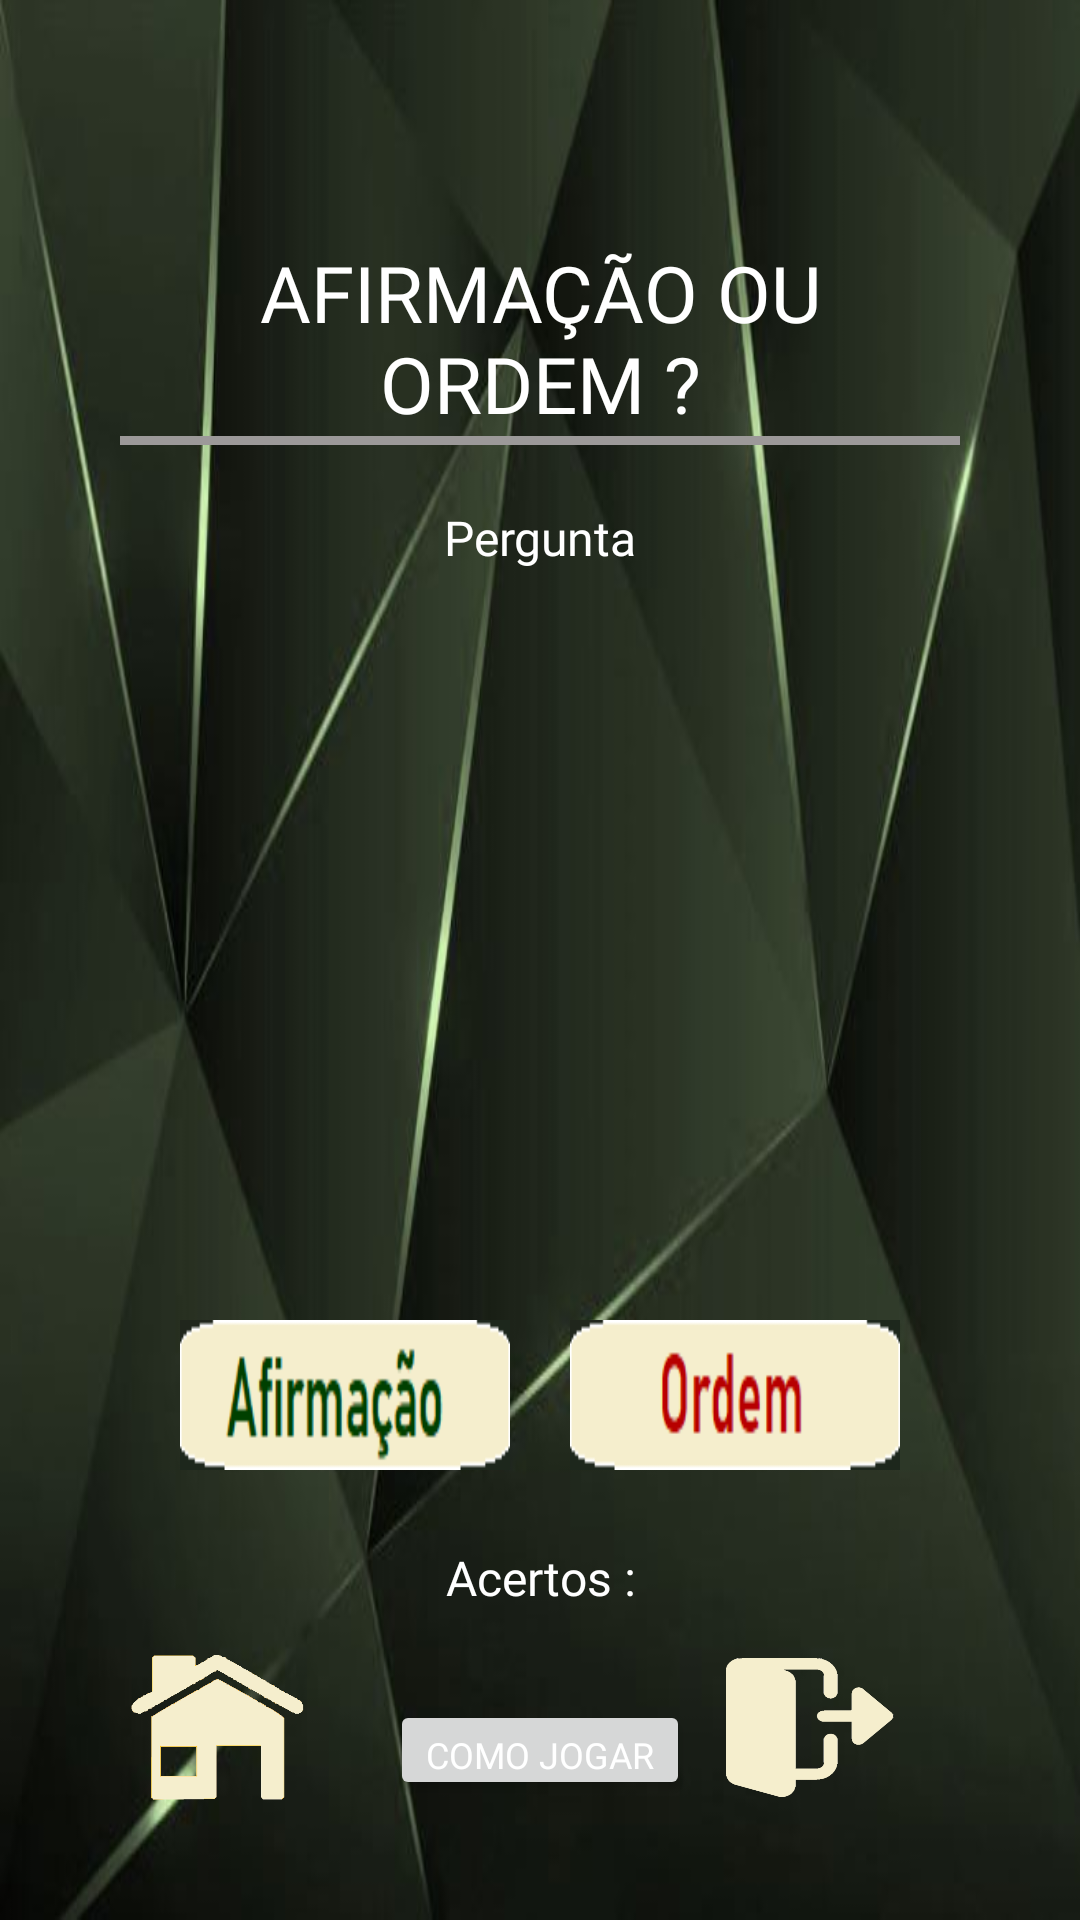

Named icons in this screenshot (1080 × 1920) and their bounding boxes, [x1,y1,x2,y2]:
homef: [131,1655,304,1800]
sair: [726,1658,894,1797]
